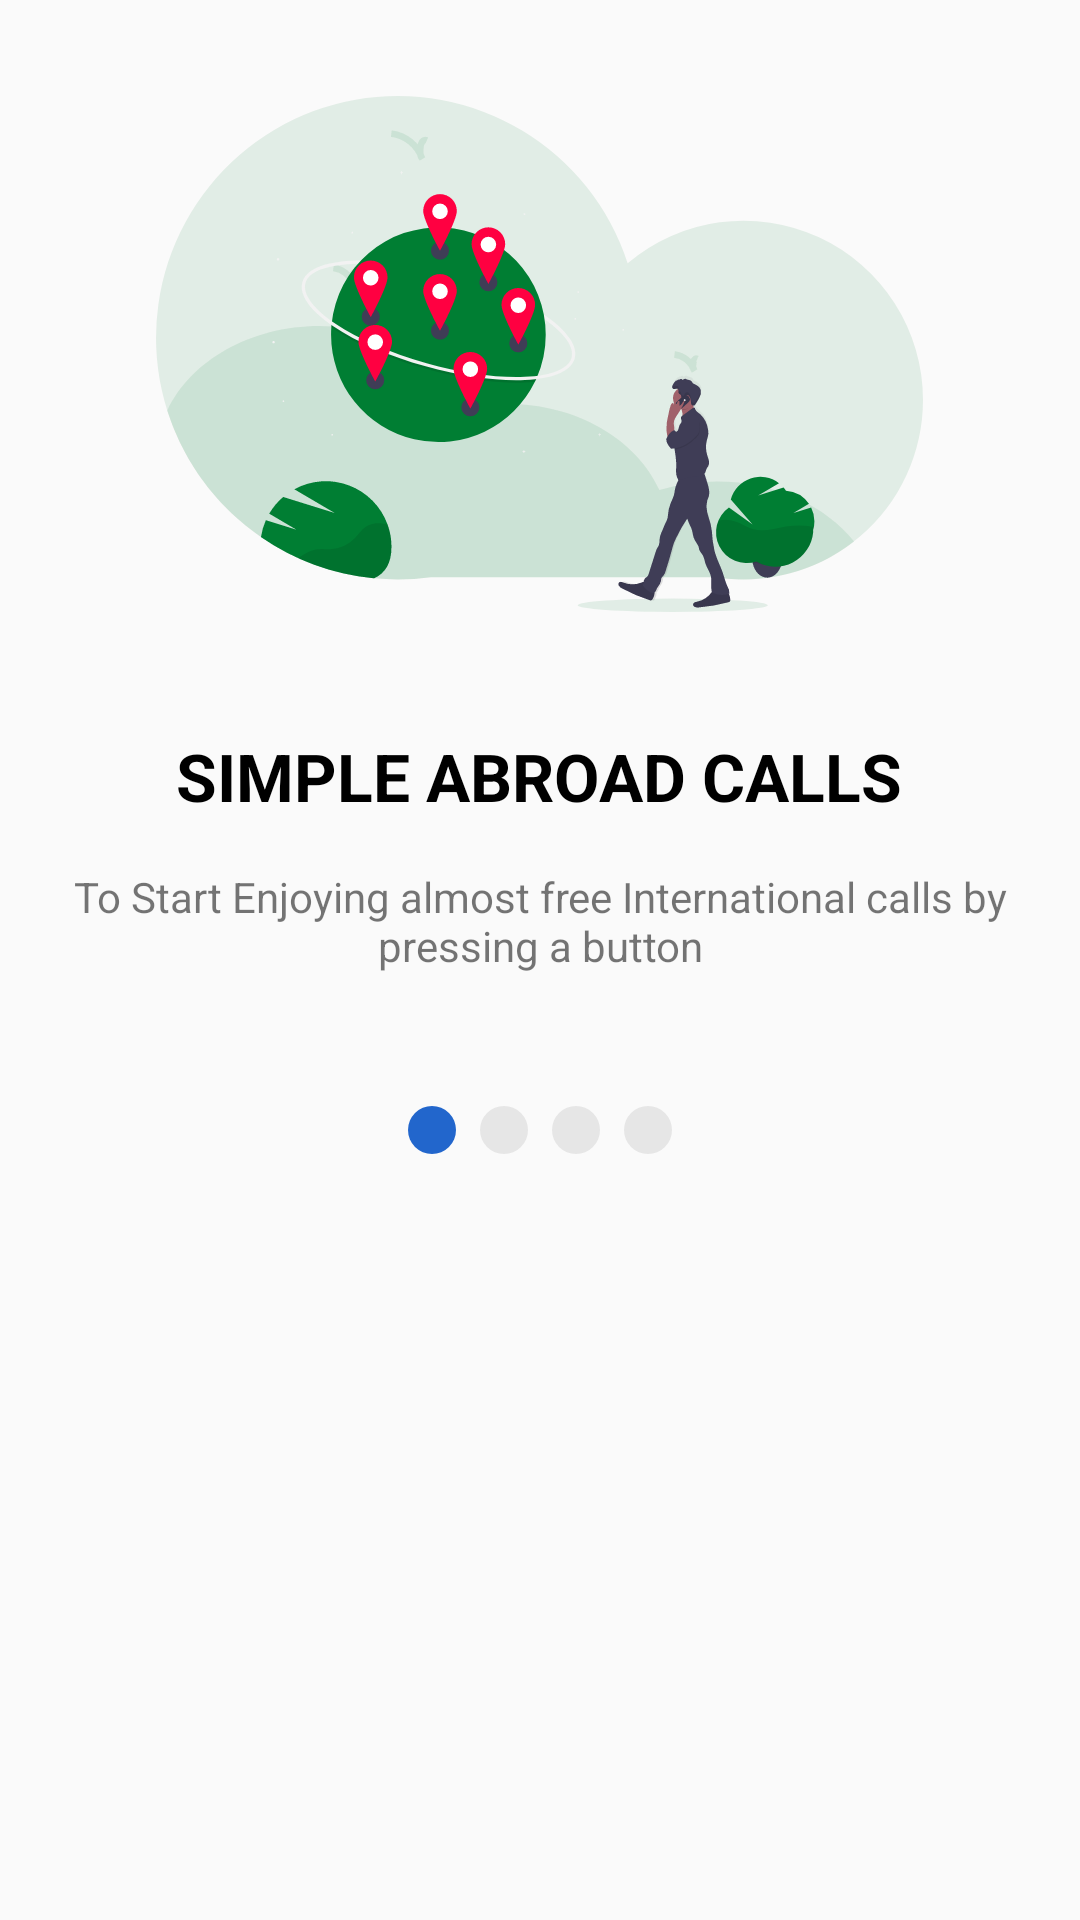

Icon click points for this 1080w x 1920h phone screenshot, format (x,y):
fiber manual record: (432,1130)
